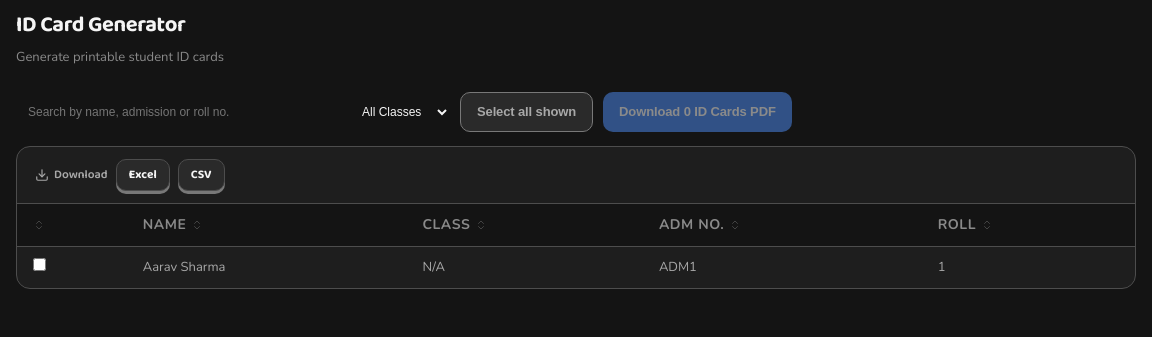
Scenario: the daily cap is explained as a cap, not as a generic failure
Expected: the text "Aarav Sharma" is shown, [127,247,406,288]
Click the button "Select all shown": (527, 112) [460,92,593,132]
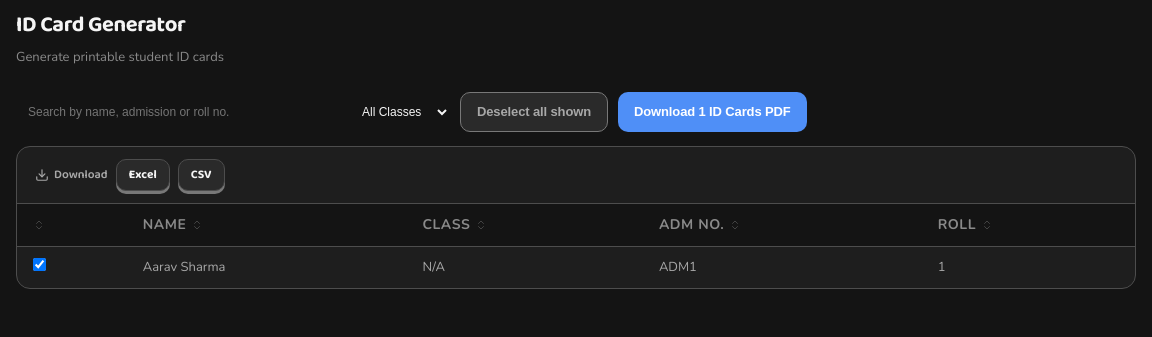
Click the button "Download 1 ID Cards PDF": (712, 112) [618,92,807,132]
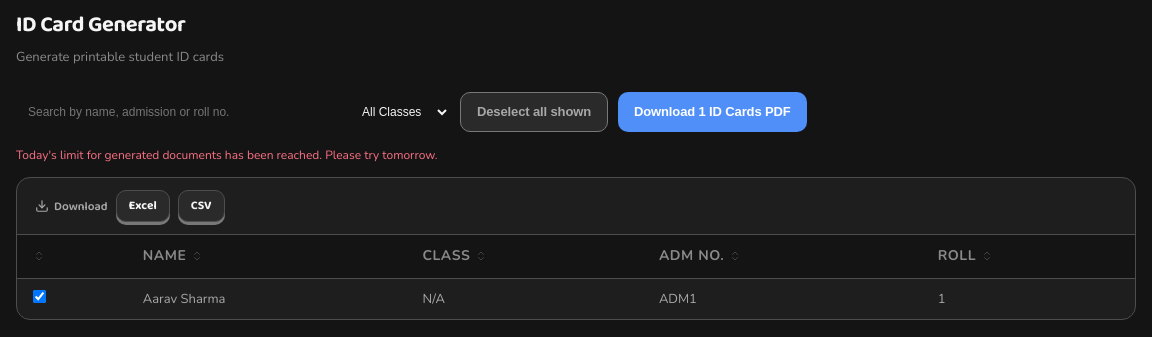
Expected: the text with test id "id-card-error" reads "Today's limit for generated documents has been reached. Please try tomorrow.", [16,147,438,163]
